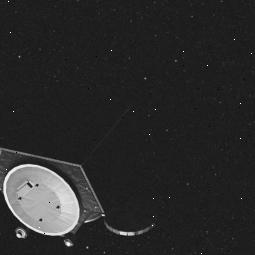cheops: (0, 101, 155, 243)
